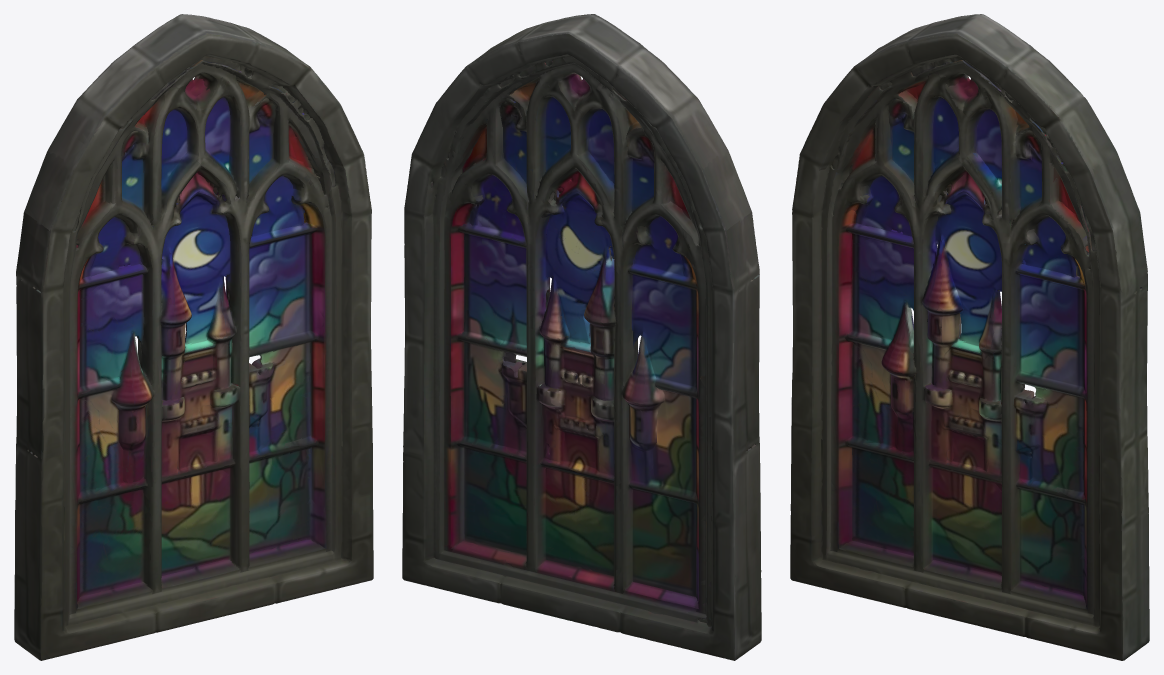
Rendered from stained-glass-window.glb.
3 renders of one model, left to right at view 1: azimuth 30°, elevation 25°; view 2: azimuth 150°, elevation 25°; view 3: azimuth 330°, elevation 25°, orthographic.
Visible parts, largest first — view 1: geometry_0; view 2: geometry_0; view 3: geometry_0.
Boxes of the visible parts, bbox=[...] form: geometry_0: bbox=[14, 14, 373, 660]; geometry_0: bbox=[402, 14, 761, 660]; geometry_0: bbox=[790, 14, 1149, 660].
Size of the model in its own units: 1.8 by 3.03 by 0.2558.
Materials: 1 (1 with a texture image).
